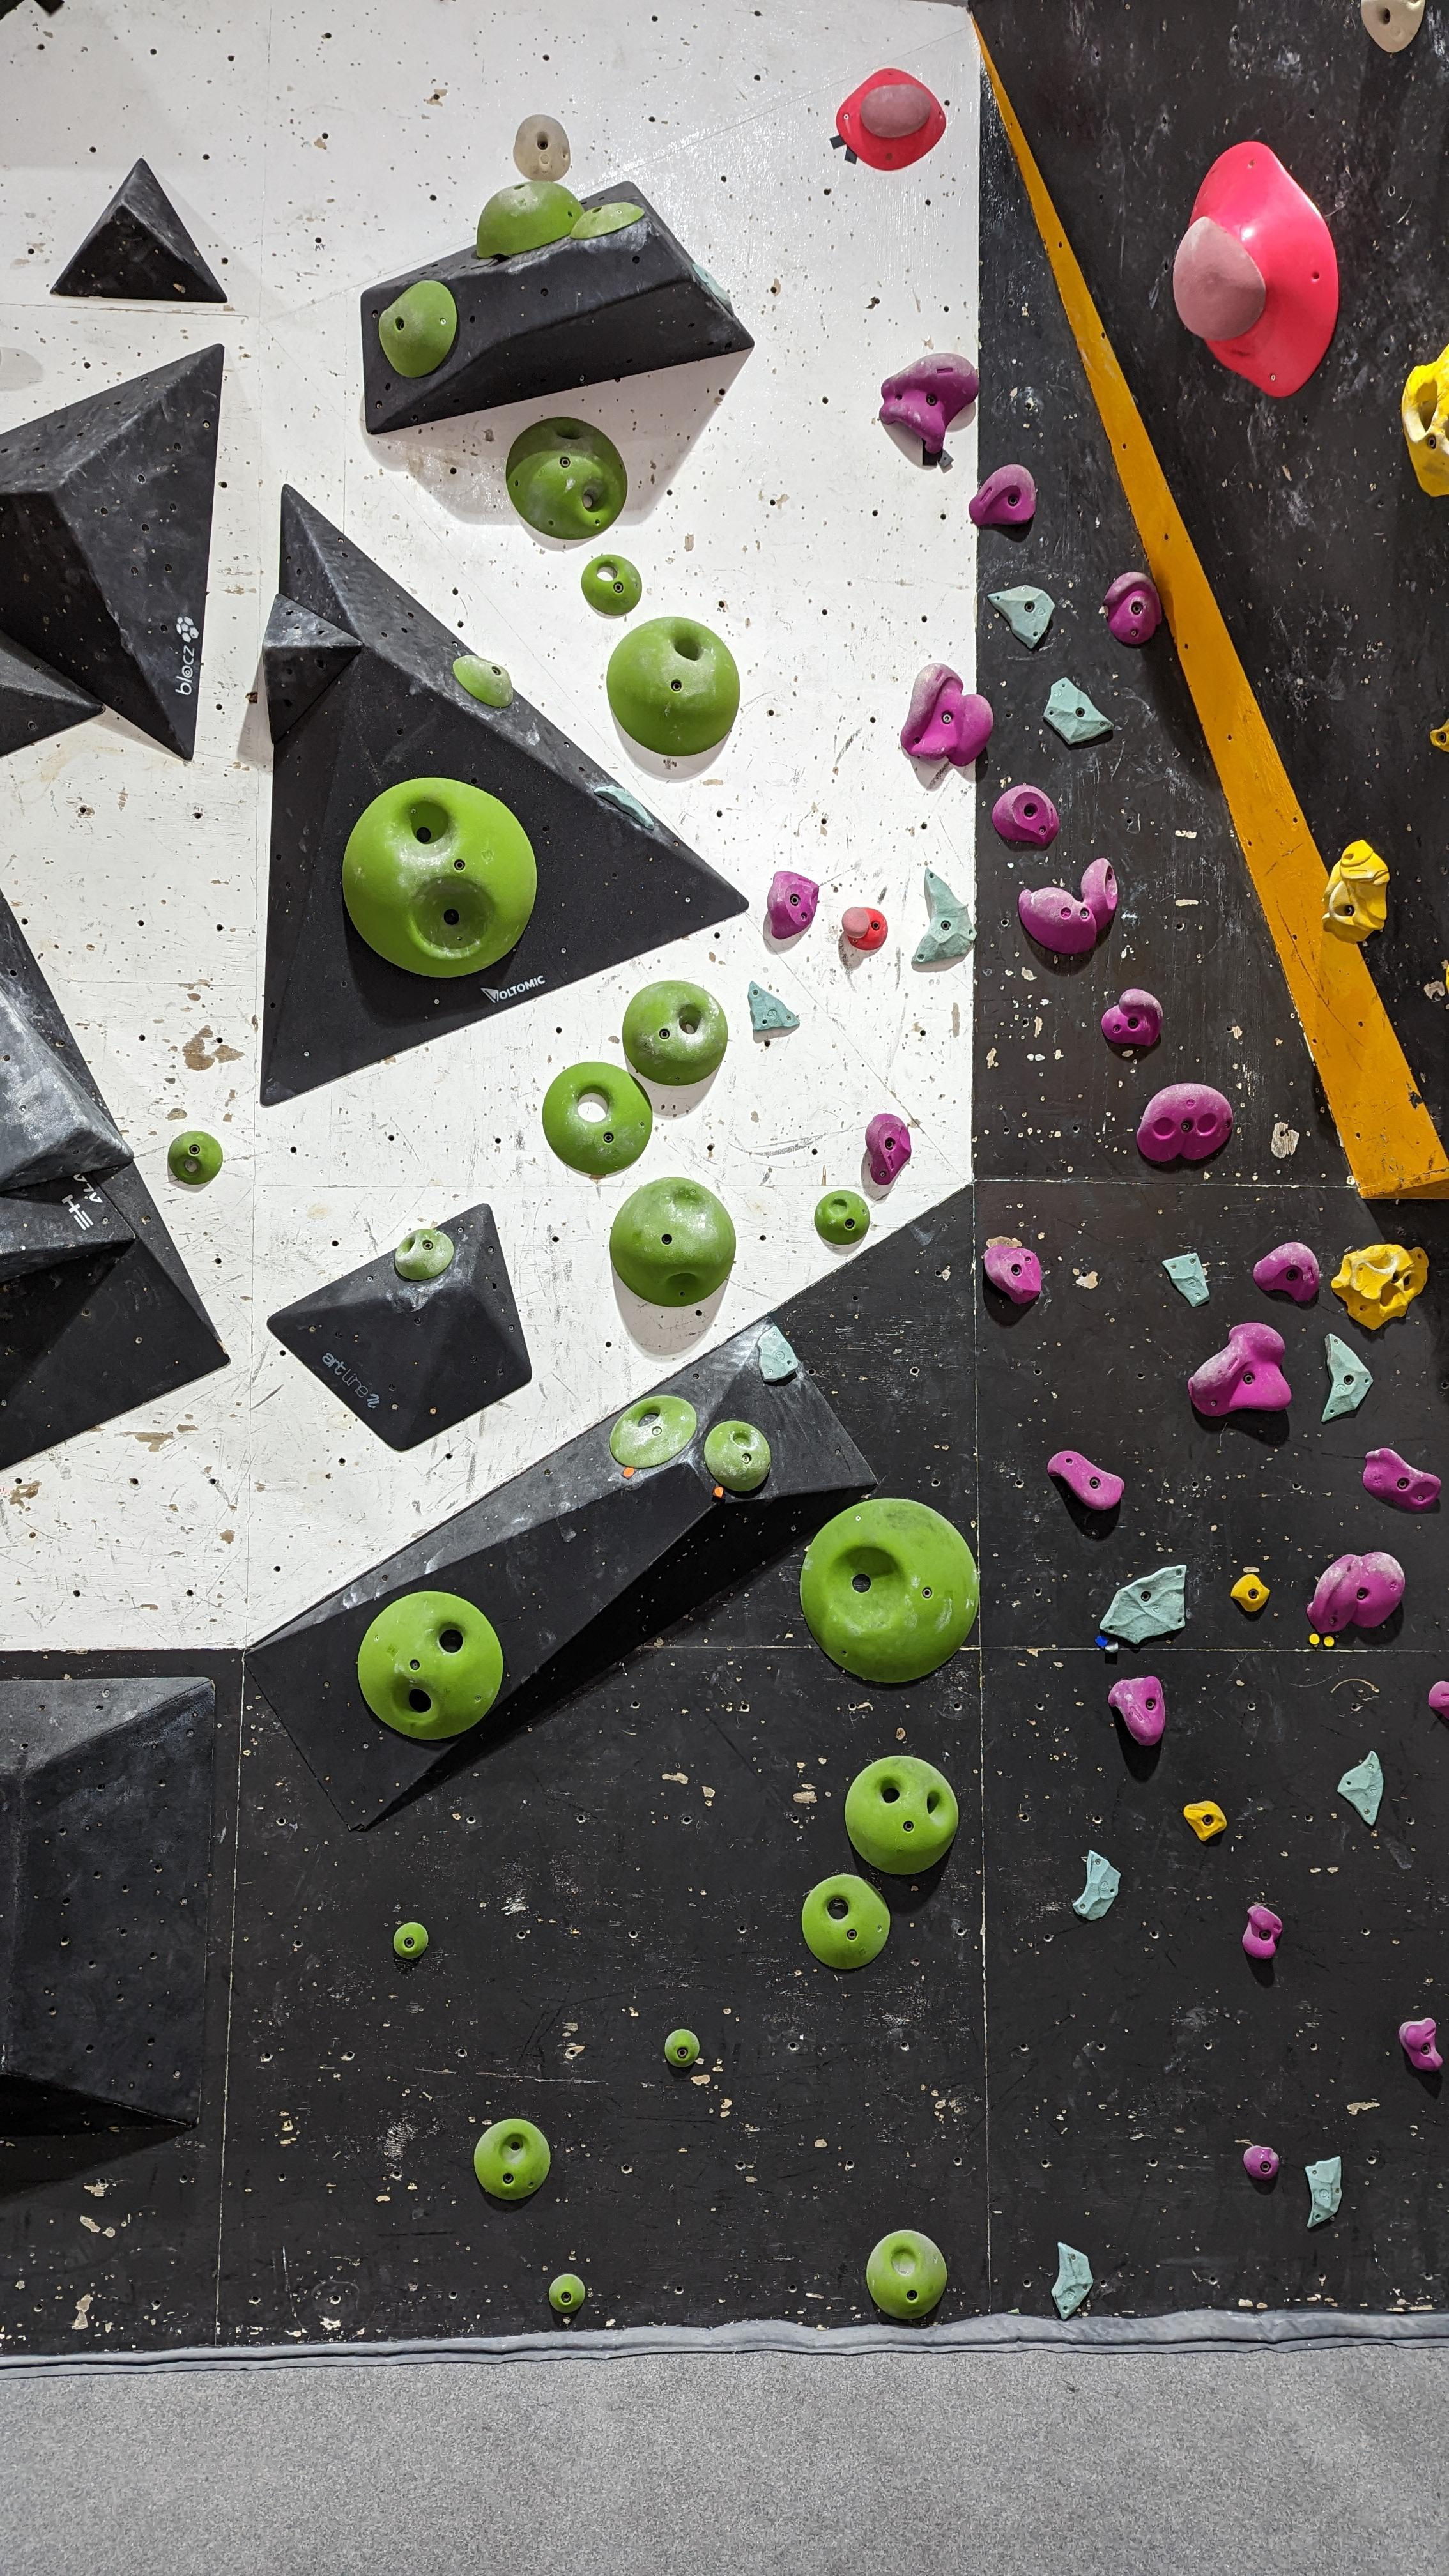hold: (1173, 140, 1341, 398), (341, 777, 538, 977), (800, 1499, 980, 1683), (357, 1591, 502, 1741), (607, 616, 740, 757), (610, 1177, 736, 1307), (504, 416, 628, 540), (844, 1755, 959, 1874), (541, 1062, 653, 1175), (837, 67, 947, 170), (623, 980, 727, 1086), (879, 354, 980, 453), (1187, 1322, 1292, 1417), (901, 663, 994, 766), (1330, 1242, 1430, 1330), (801, 1874, 890, 1969), (476, 180, 584, 258), (1306, 1550, 1405, 1633), (1136, 1083, 1233, 1162), (379, 280, 456, 379), (1320, 839, 1391, 943), (1401, 343, 1449, 497), (865, 2229, 947, 2319), (1099, 1564, 1187, 1644), (609, 1394, 697, 1468), (911, 867, 977, 966), (474, 2118, 550, 2199), (1017, 888, 1097, 954), (1362, 1447, 1442, 1511), (704, 1419, 771, 1491), (1044, 678, 1115, 745), (1322, 1332, 1373, 1422), (1047, 1451, 1125, 1509), (991, 784, 1062, 847), (987, 584, 1054, 649), (968, 464, 1037, 525), (1104, 571, 1162, 644), (1108, 1675, 1166, 1746), (1253, 1242, 1320, 1302), (513, 115, 570, 182), (582, 554, 642, 616), (1338, 1750, 1385, 1826), (1102, 989, 1164, 1047), (768, 870, 819, 939), (984, 1244, 1042, 1304), (1072, 1851, 1122, 1921), (1361, 0, 1426, 53), (865, 1113, 911, 1185), (1051, 2242, 1093, 2319), (395, 1228, 455, 1281), (453, 655, 513, 708), (814, 1191, 870, 1246), (168, 1131, 223, 1185), (571, 202, 644, 241), (1081, 858, 1118, 932), (1306, 2155, 1343, 2227), (748, 980, 800, 1031), (1162, 1253, 1210, 1307), (1399, 2017, 1442, 2072), (757, 1325, 798, 1382), (692, 264, 734, 315), (1242, 1905, 1283, 1959), (842, 908, 888, 952), (1184, 1801, 1228, 1842), (1230, 1573, 1270, 1612), (548, 2273, 586, 2314), (393, 1921, 428, 1959), (1242, 2144, 1279, 2180), (665, 2029, 699, 2066), (1428, 1679, 1449, 1720), (1430, 718, 1449, 752)
volume: (246, 1316, 878, 1831), (260, 483, 750, 1106), (0, 888, 230, 1470), (361, 180, 754, 435), (0, 1677, 216, 2137), (0, 343, 225, 761), (267, 1203, 533, 1451), (0, 985, 134, 1192), (50, 157, 228, 303), (262, 593, 363, 745), (0, 628, 106, 757)
